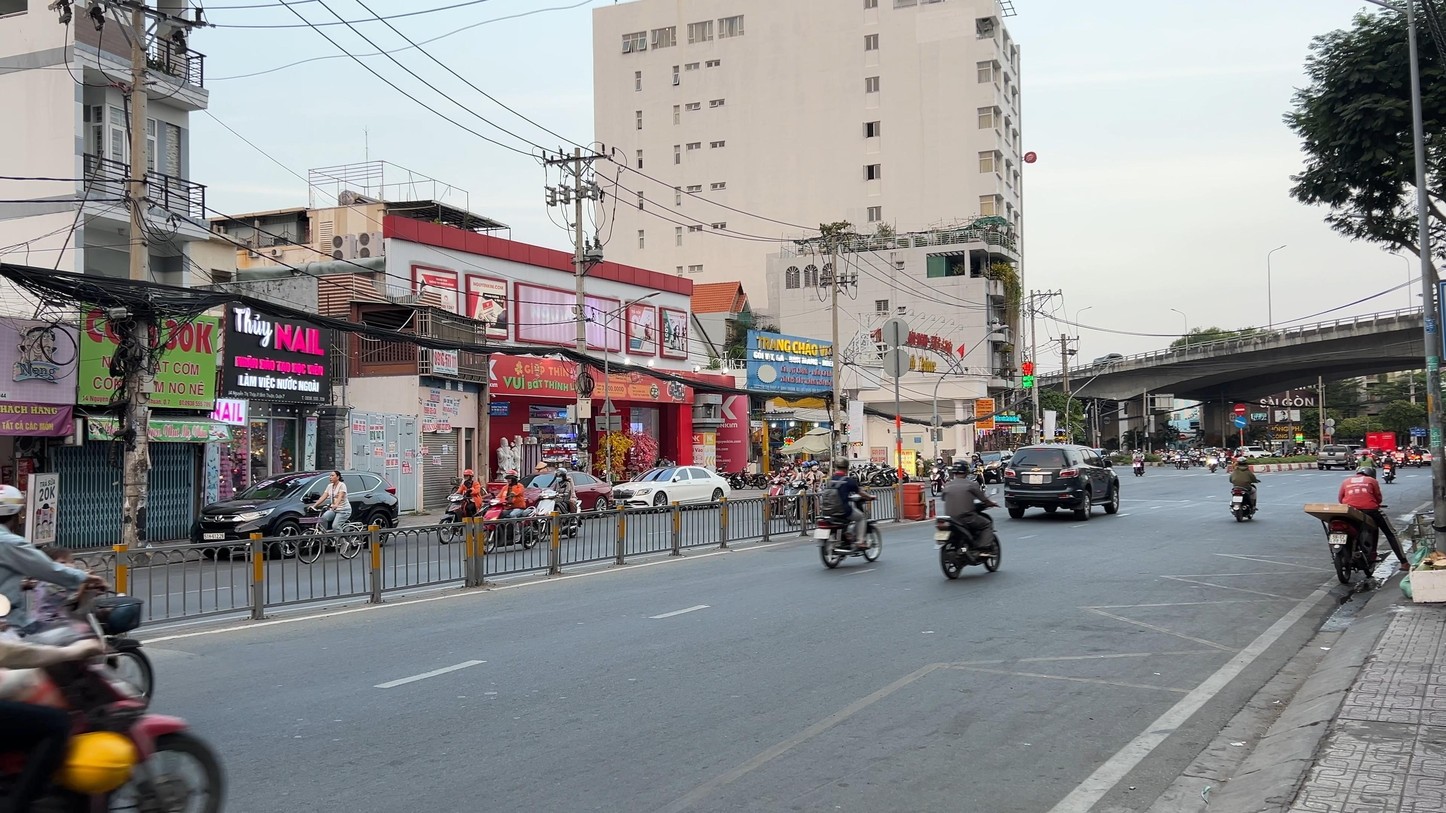bicyclist: (297, 471, 367, 564)
driver: (1305, 466, 1411, 583), (933, 459, 1002, 580), (812, 456, 882, 569), (482, 470, 539, 555), (437, 469, 489, 545), (533, 467, 582, 542), (785, 461, 823, 526), (1229, 457, 1261, 522), (767, 460, 798, 519), (927, 456, 950, 497), (1381, 449, 1398, 483)
helmet: (0, 484, 26, 529), (952, 460, 970, 477), (835, 456, 850, 473), (1356, 466, 1375, 478), (504, 470, 518, 485), (463, 469, 474, 481), (800, 461, 811, 473), (556, 470, 566, 483), (809, 461, 819, 472), (1236, 457, 1247, 466), (936, 456, 943, 464), (1362, 450, 1368, 456), (1386, 449, 1392, 454)
no-helmet: (330, 471, 343, 483)
